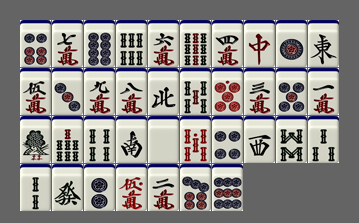0m: (116, 164, 147, 211)
0p: (212, 68, 243, 115)
0s: (180, 116, 211, 163)
1m: (308, 68, 339, 115)
1p: (276, 20, 307, 67)
1s: (20, 116, 51, 163)
1z: (308, 20, 339, 67)
2m: (148, 164, 179, 211)
2p: (84, 164, 115, 211)
2s: (20, 164, 51, 211)
2z: (116, 116, 147, 163)
3m: (244, 68, 275, 115)
3p: (52, 68, 83, 115)
3s: (308, 116, 339, 163)
3z: (244, 116, 275, 163)
4m: (212, 20, 243, 67)
4p: (212, 116, 243, 163)
4s: (84, 116, 115, 163)
4z: (148, 68, 179, 115)
5m: (20, 68, 51, 115)
5p: (276, 68, 307, 115)
5s: (180, 68, 211, 115)
5z: (148, 116, 179, 163)
6m: (148, 20, 179, 67)
6p: (20, 20, 51, 67)
6s: (116, 20, 147, 67)
6z: (52, 164, 83, 211)
7m: (52, 20, 83, 67)
7p: (180, 164, 211, 211)
7s: (52, 116, 83, 163)
7z: (244, 20, 275, 67)
8m: (116, 68, 147, 115)
8p: (84, 20, 115, 67)
8s: (276, 116, 307, 163)
9m: (84, 68, 115, 115)
9p: (212, 164, 243, 211)
9s: (180, 20, 211, 67)
